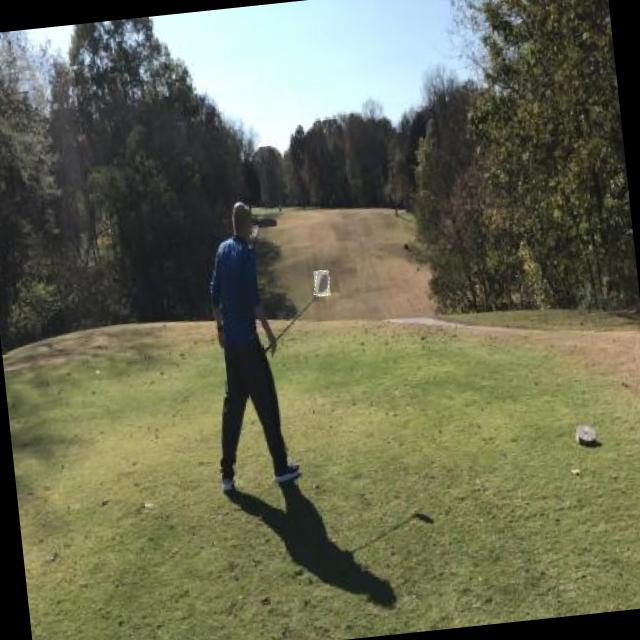club head: (312, 269, 330, 296)
